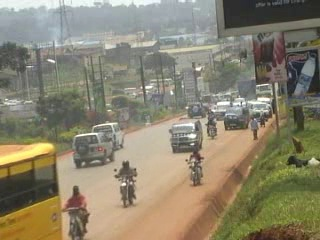Car: (69, 130, 116, 168), (186, 100, 205, 118), (211, 103, 215, 118)
Motorcycle: (60, 184, 93, 239), (112, 158, 141, 209), (184, 145, 206, 187), (203, 115, 220, 138), (206, 109, 217, 126)
